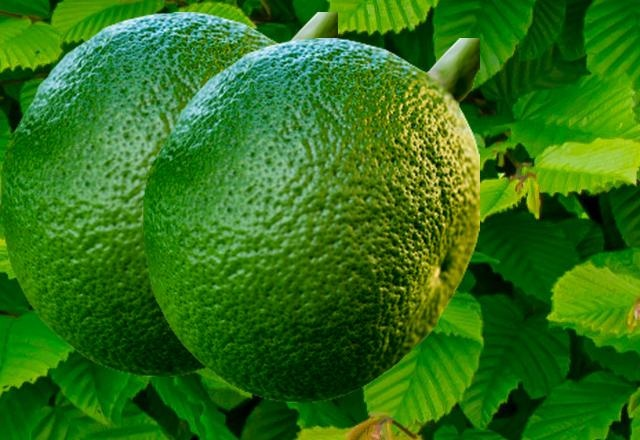dalandan: (0, 12, 336, 375), (142, 38, 478, 401)
